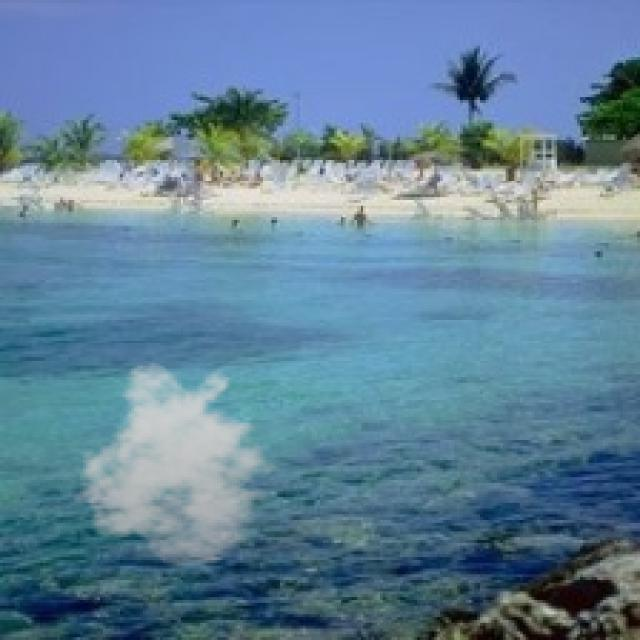smoke: (71, 360, 292, 569)
